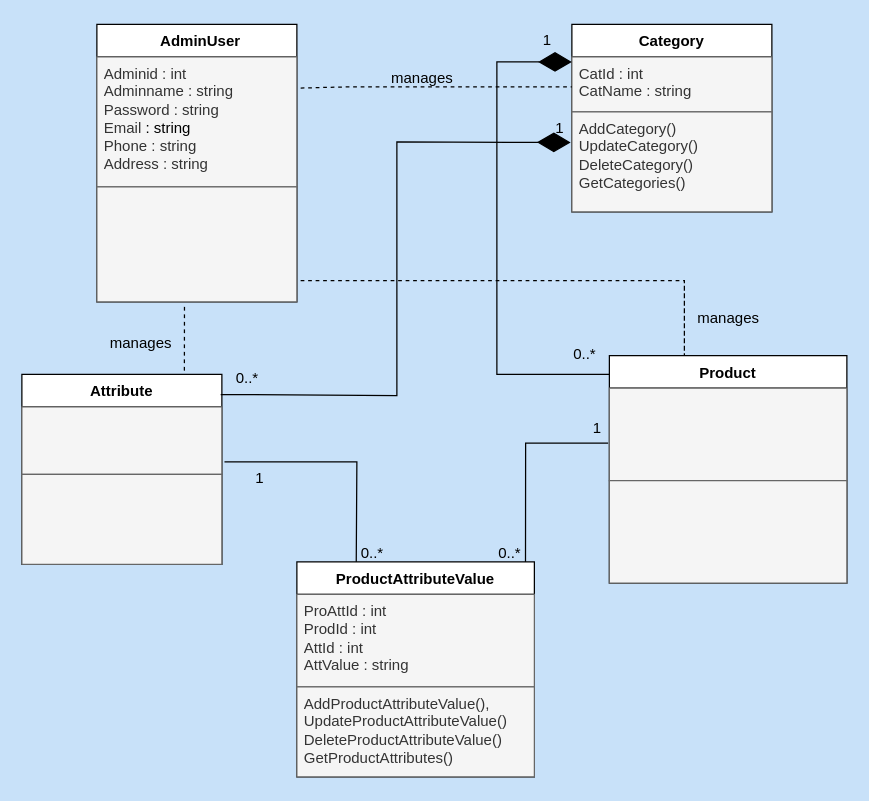
This 869x801 diagram has some shape labels left out. Each missing label, with the centre of its shape:
"AddAttribute() UpdataAttribute() DeleteAttribute() GetAttributes()" belongs at [121,518].
"AddProduct() UpdateProduct() DeleteProduct() GetProducts()" belongs at [727,531].
"AttId : int AttName : string CatId : int" belongs at [121,440].
"Login() Logout() ManageCategories() ManageProducts() ManageAttributes()" belongs at [196,244].
"ProdId : int ProdName : string Price : int CatId : int" belongs at [727,434].
